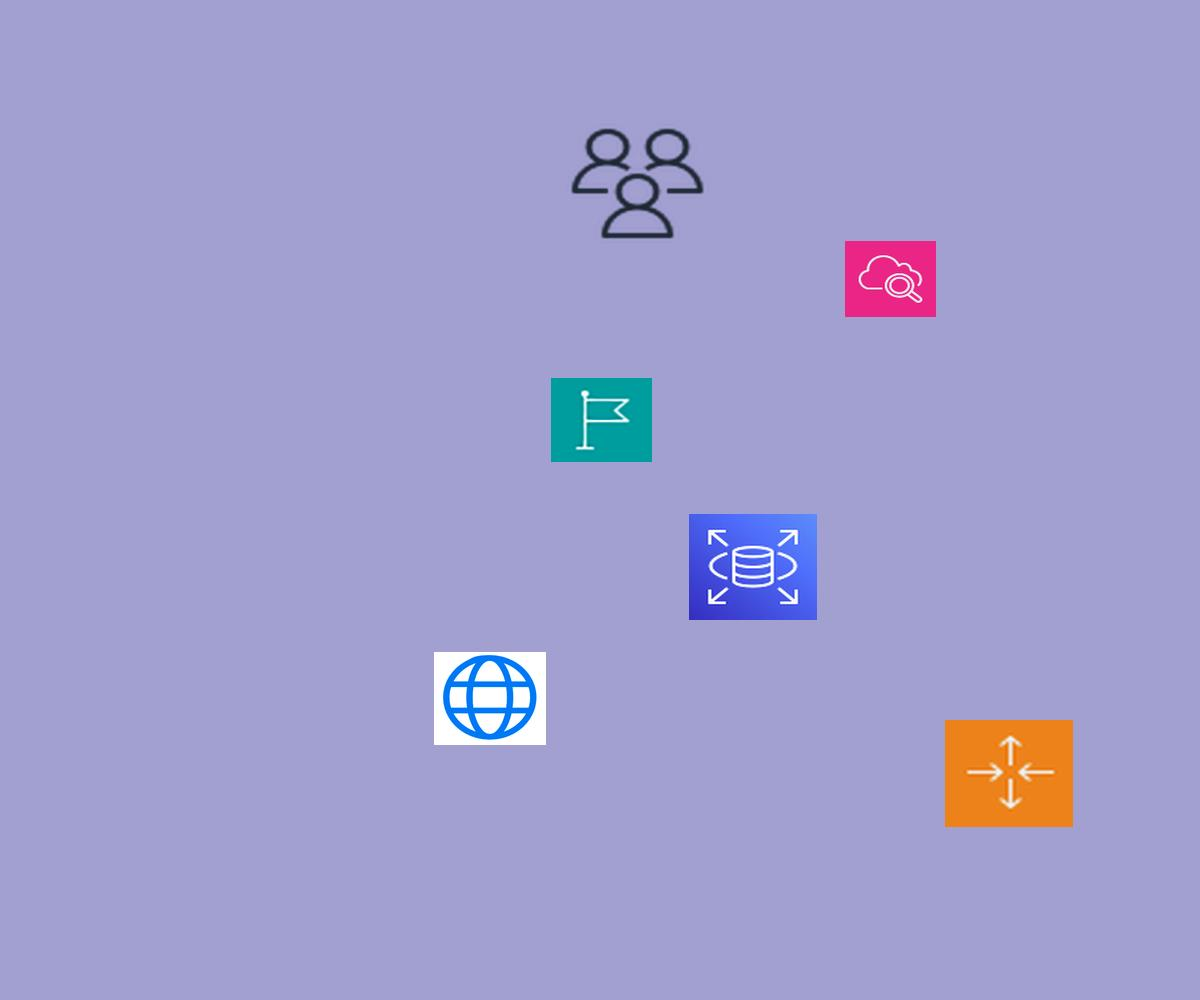AWS-CloudWatch: (845, 241, 936, 317)
AWS-RDS: (689, 514, 817, 620)
AWS-Region: (551, 378, 652, 462)
AWS-Res_Users: (566, 124, 709, 243)
AWS-Scaling-group: (945, 720, 1073, 827)
Azure_http: (434, 652, 546, 745)
